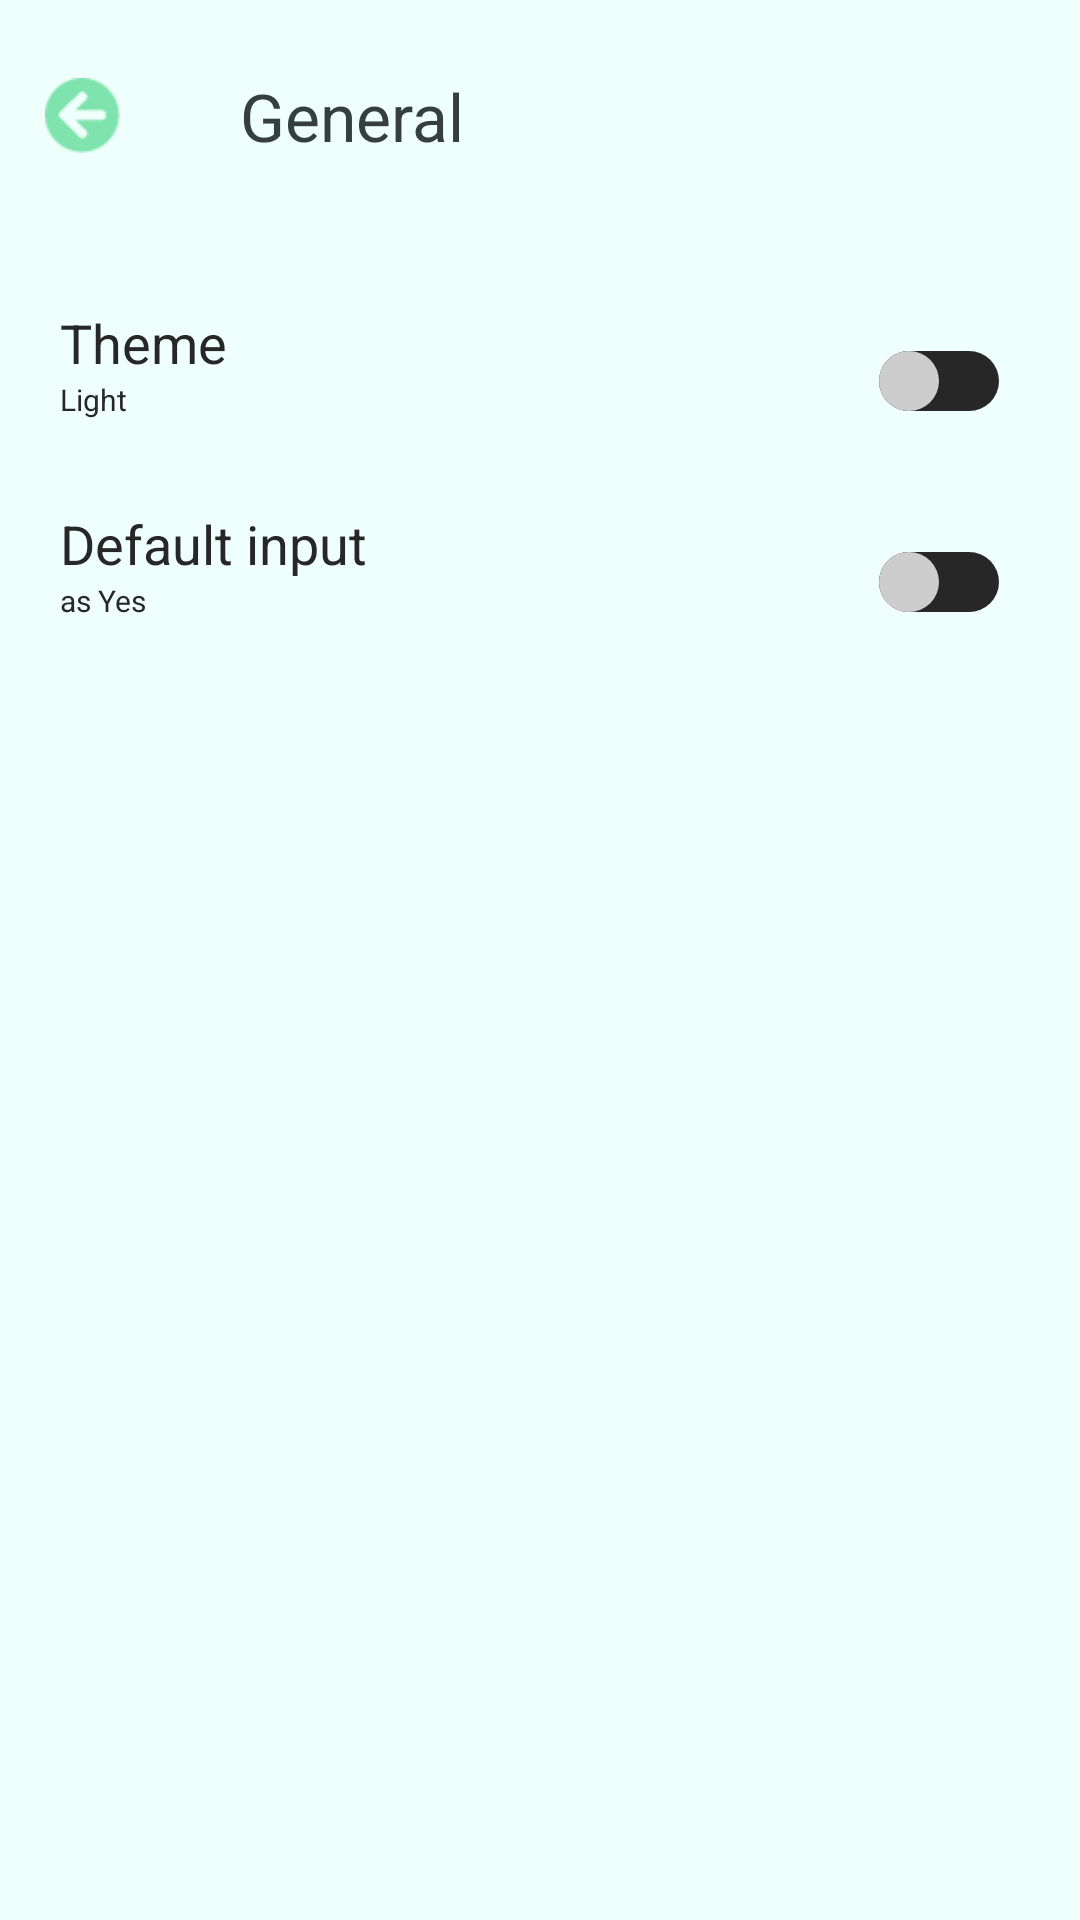

Named icons in this screenshot (1080w x 1920h) and their bounding boxes, rect(x1, y1, x2, y2):
back: rect(45, 78, 120, 153)
